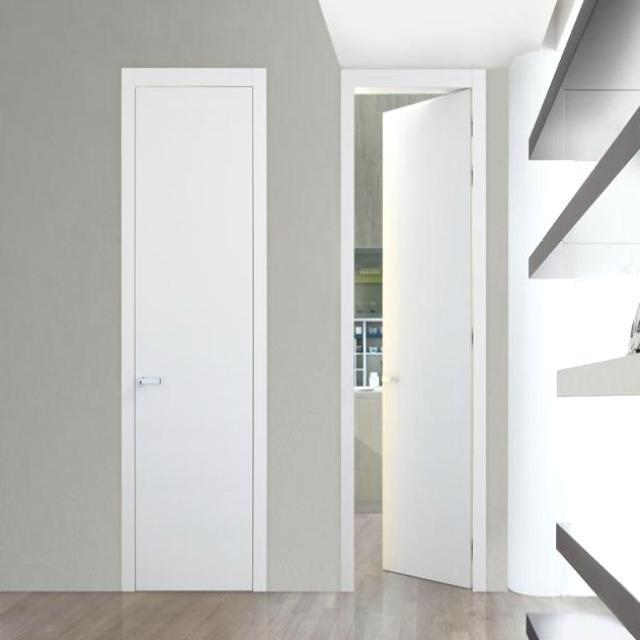door: (122, 67, 263, 592), (380, 88, 473, 590)
